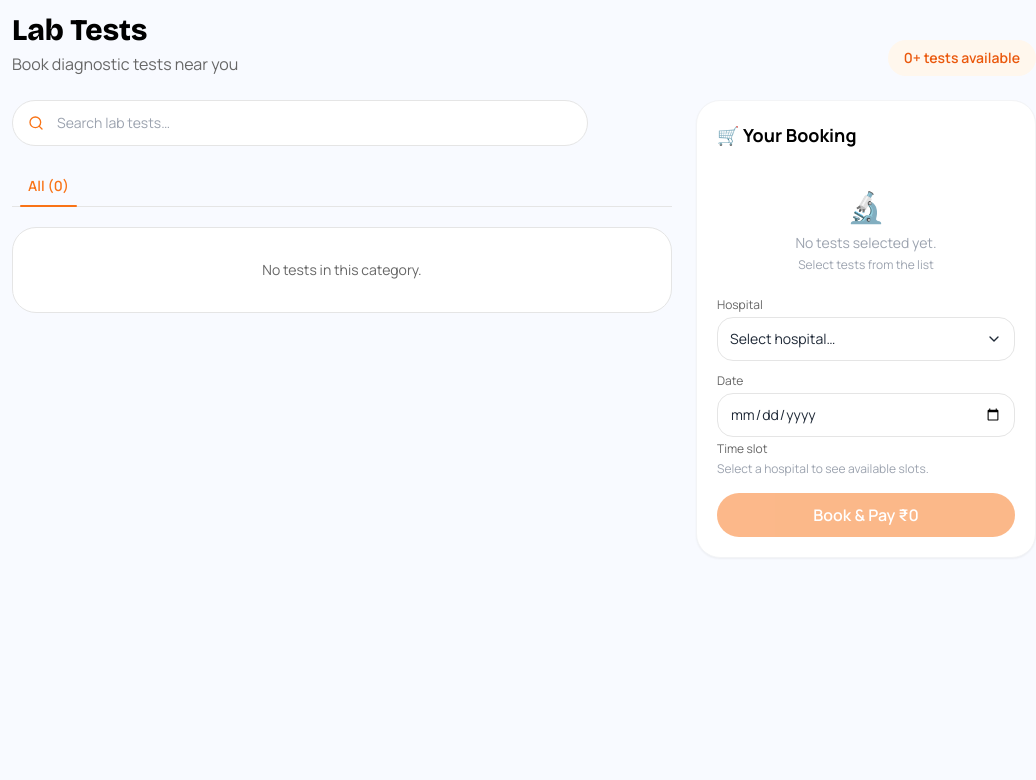
it: patient slot loading cancels stale requests and offers retry after a timeout
This screenshot has width=1036, height=780.
Click the button "Select hospital…" at (783, 338), box [717,317,1015,361]
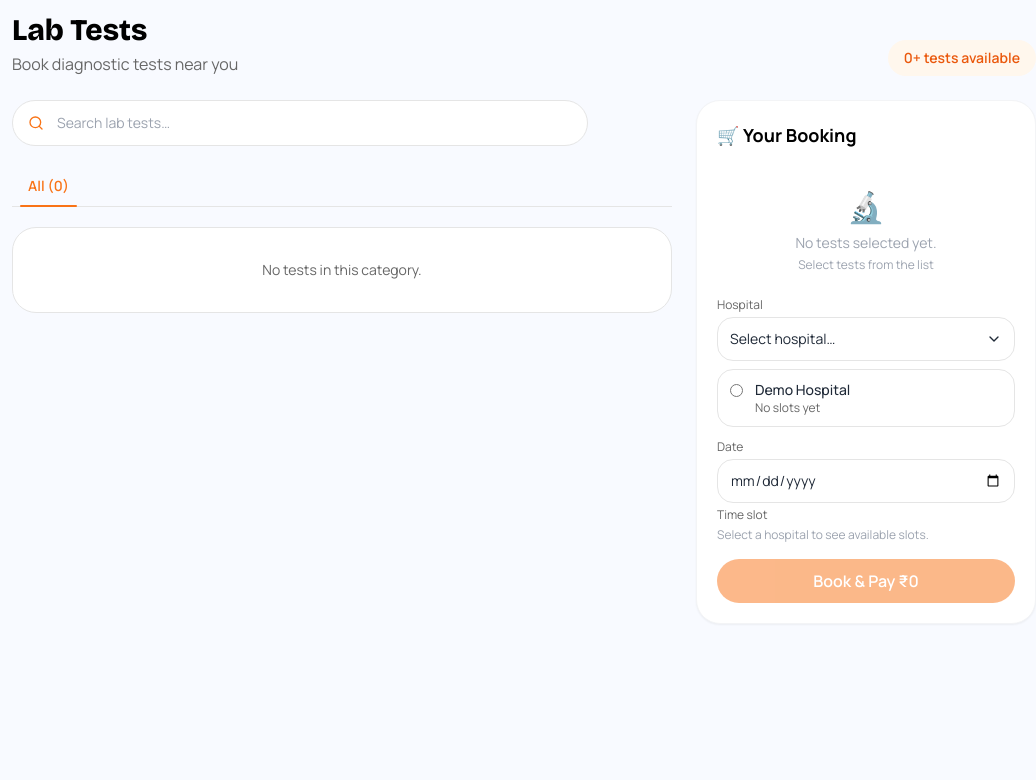
Click the radio button labelled "Demo Hospital No slots yet" at (736, 390), box [730,384,743,397]
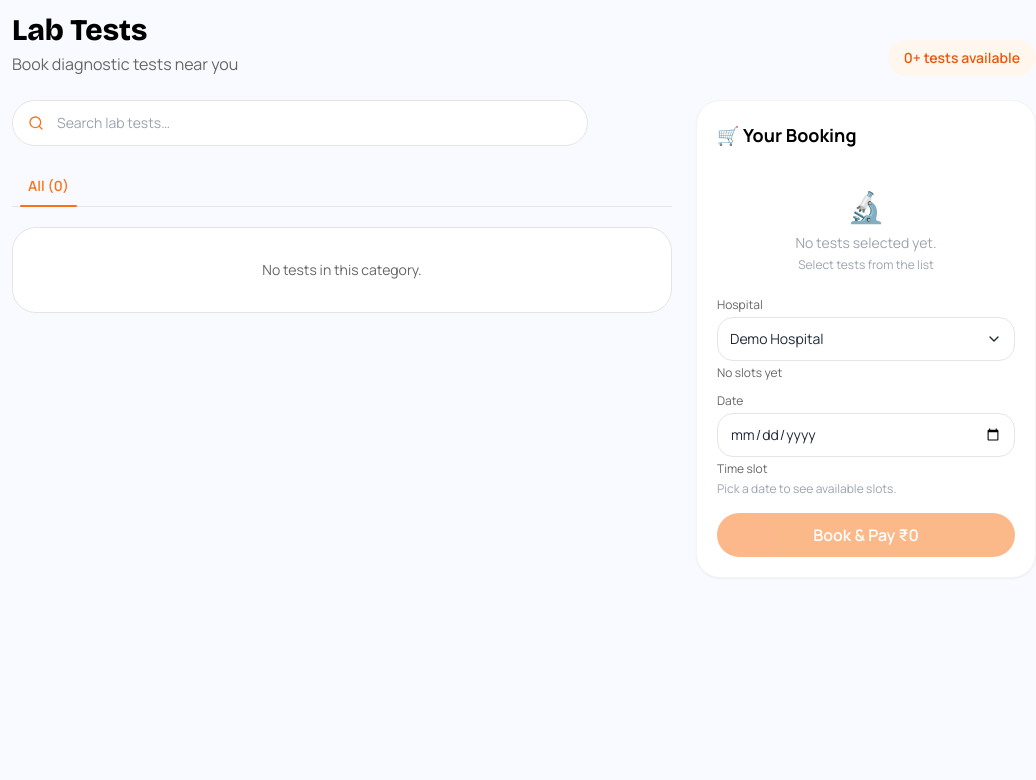
Type "2099-01-01" into the date field labelled "Date" at (866, 435), box [717,413,1015,457]
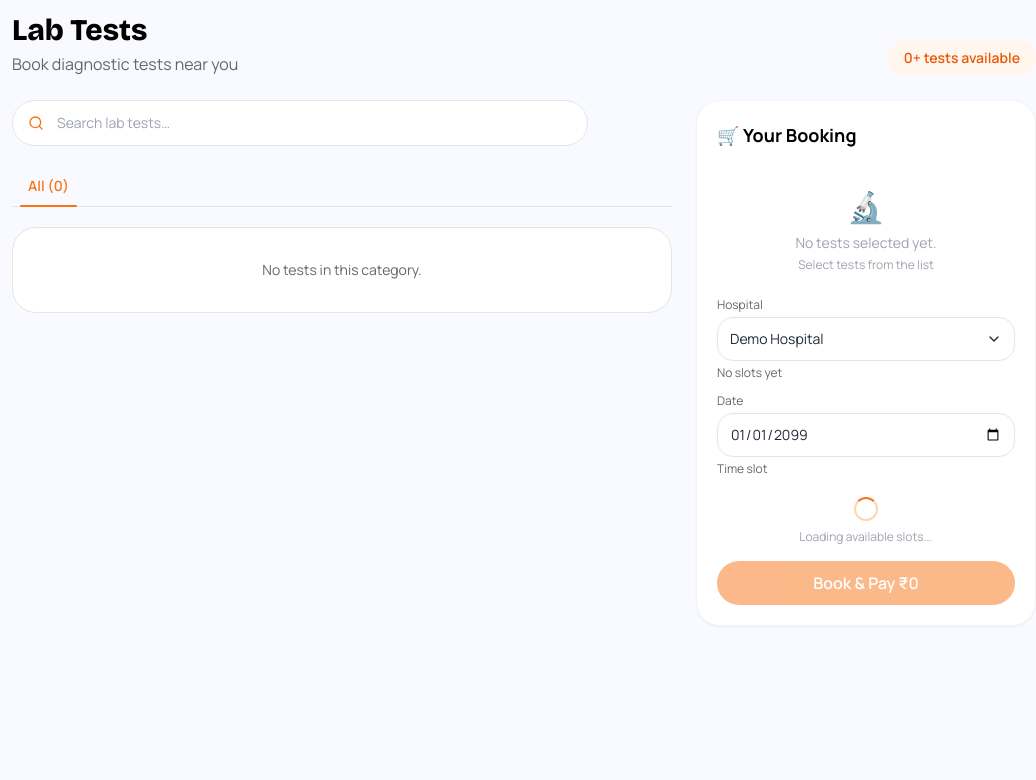
Now the message shows "Loading available slots", box [799,528,933,545]
Type "2099-01-02" into the date field labelled "Date" at (866, 435), box [717,413,1015,457]
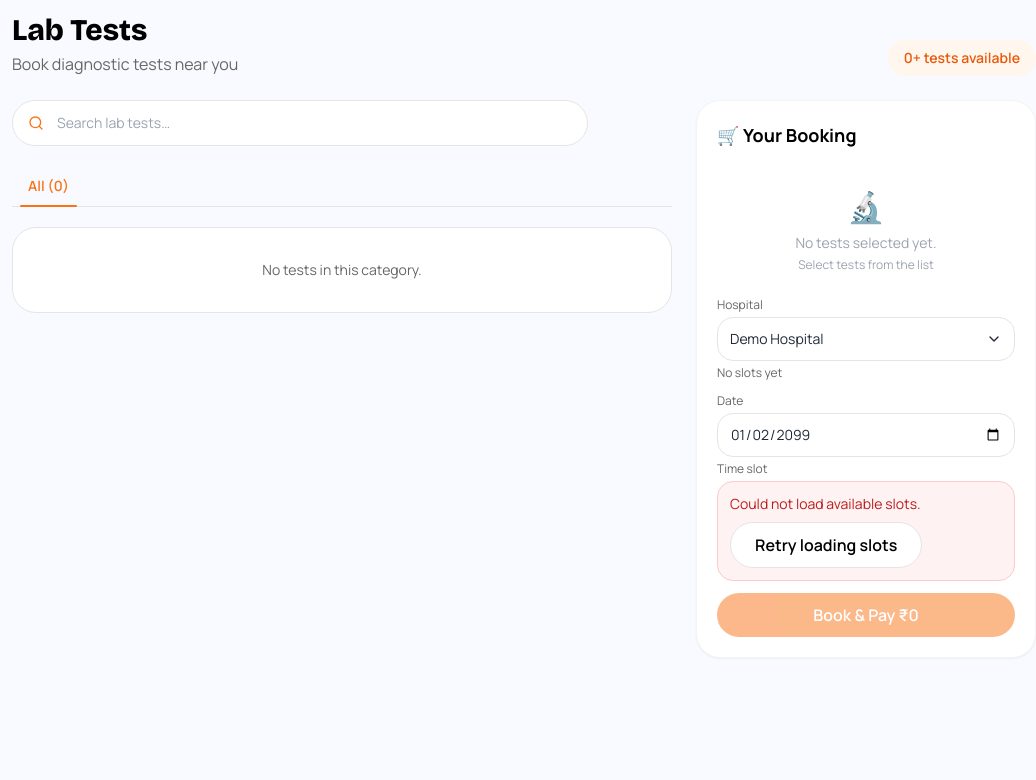
Now the message reads "Could not load available slots.", box [730,494,921,513]
Click the button "Retry loading slots" at (826, 545), box [730,522,922,568]
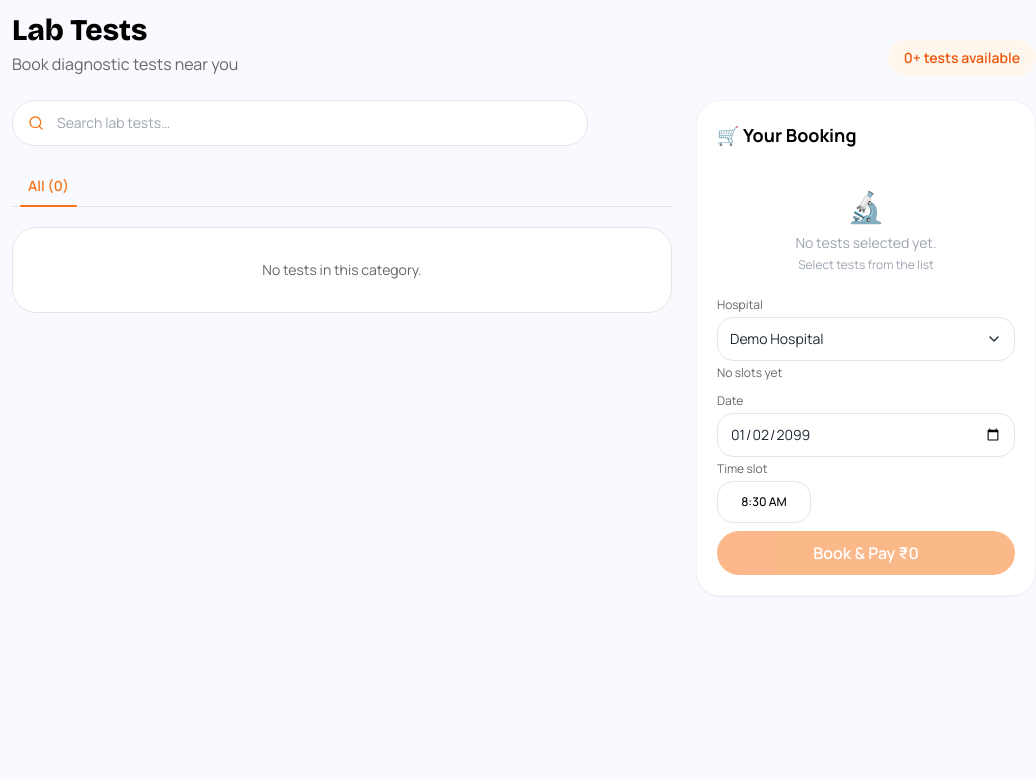
Now the button "8:30 AM" is enabled, box [717,481,811,523]
